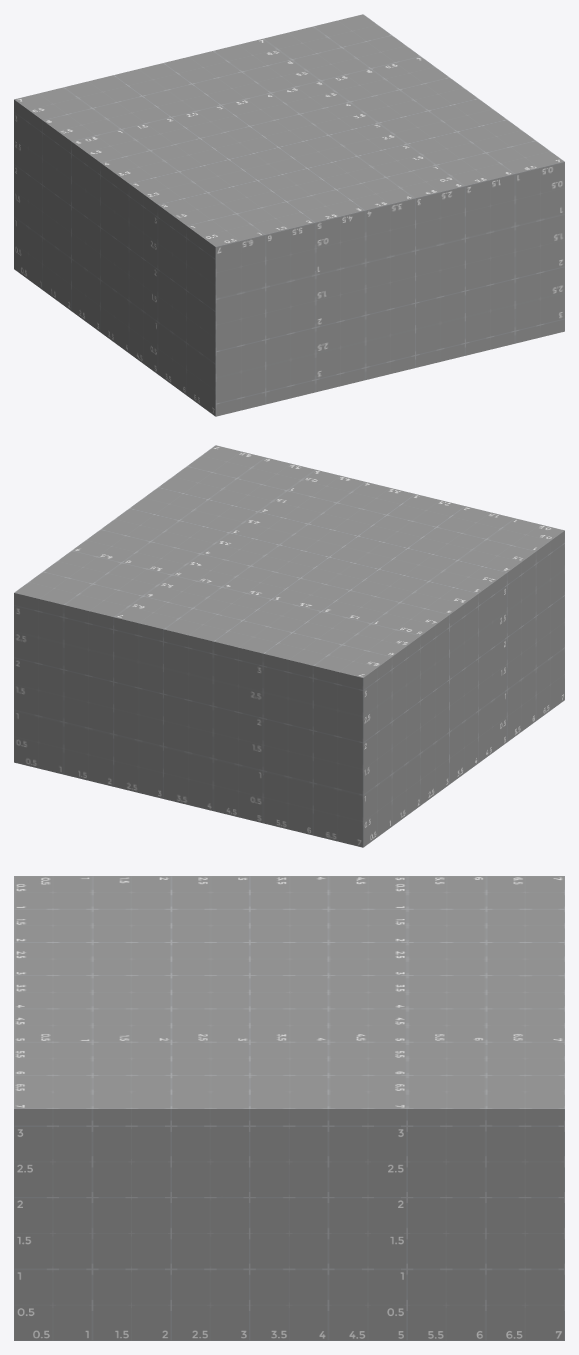
File: BlockSunken_01.fbx
3 renders of one model, top to bottom at view 1: azimuth 30°, elevation 25°; view 2: azimuth 150°, elevation 25°; view 3: azimuth 270°, elevation 25°, orthographic. The views are drawn at different scales.
Parts seen in each view (by area): view 1: BlockSunken_01; view 2: BlockSunken_01; view 3: BlockSunken_01.
Part boxes in pixels (left/top/right/bottom): BlockSunken_01: left=14, top=14, right=564, bottom=416; BlockSunken_01: left=14, top=445, right=564, bottom=847; BlockSunken_01: left=14, top=876, right=564, bottom=1340.
Bounding box in the file's own units: 7 × 3.25 × 7.
